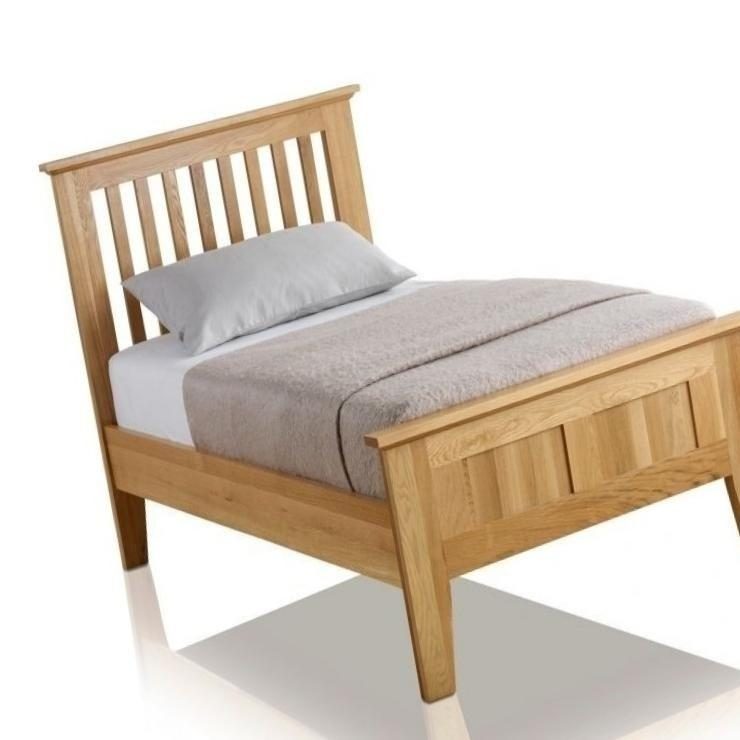bed: (22, 66, 740, 736)
